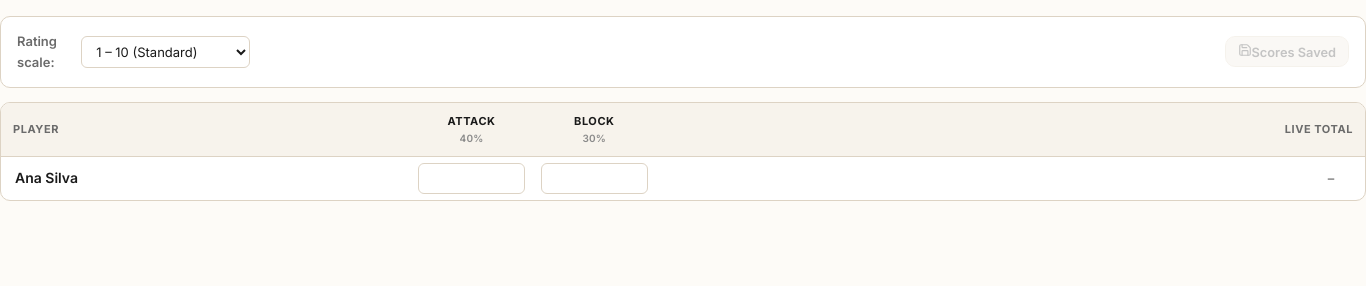
Scenario: SpreadsheetScoreGrid editing › refuses an off-scale value before it can be sent
Step 1. Type "11" into the field named "Ana Silva Attack" → (472, 179), box [418,163,525,194]
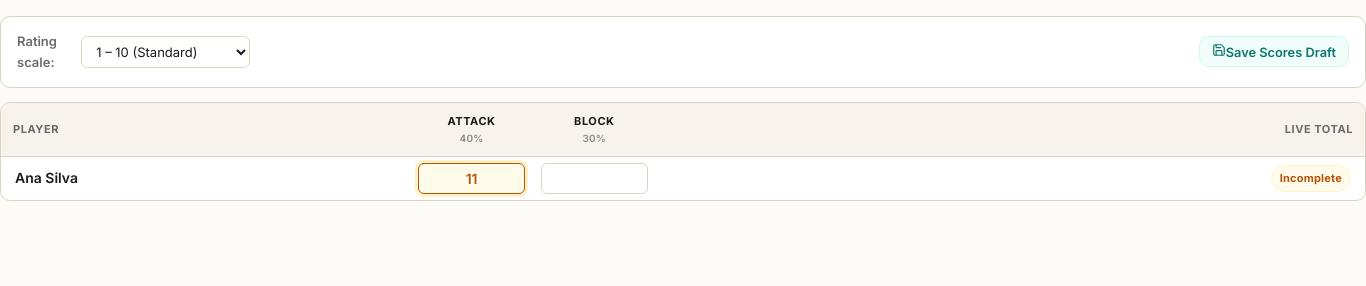
Now the field named "Ana Silva Attack" has class "invalid", box [418,163,525,194]
Step 2. Click the button "Save Scores Draft" → click(1274, 52), box [1199,36,1349,67]
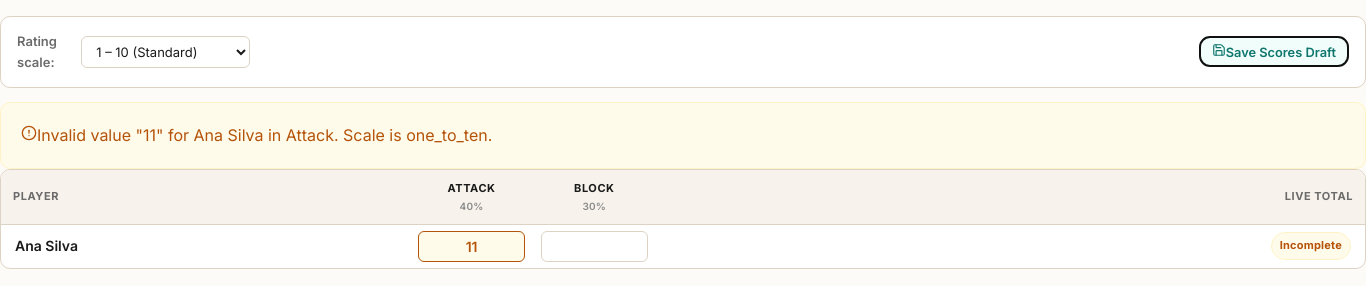
Now the message shows "Invalid value \"11\" for Ana Silva in Attack", box [37,125,492,145]
